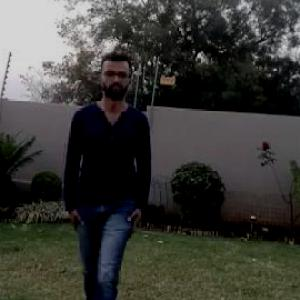follow: (62, 53, 150, 299)
